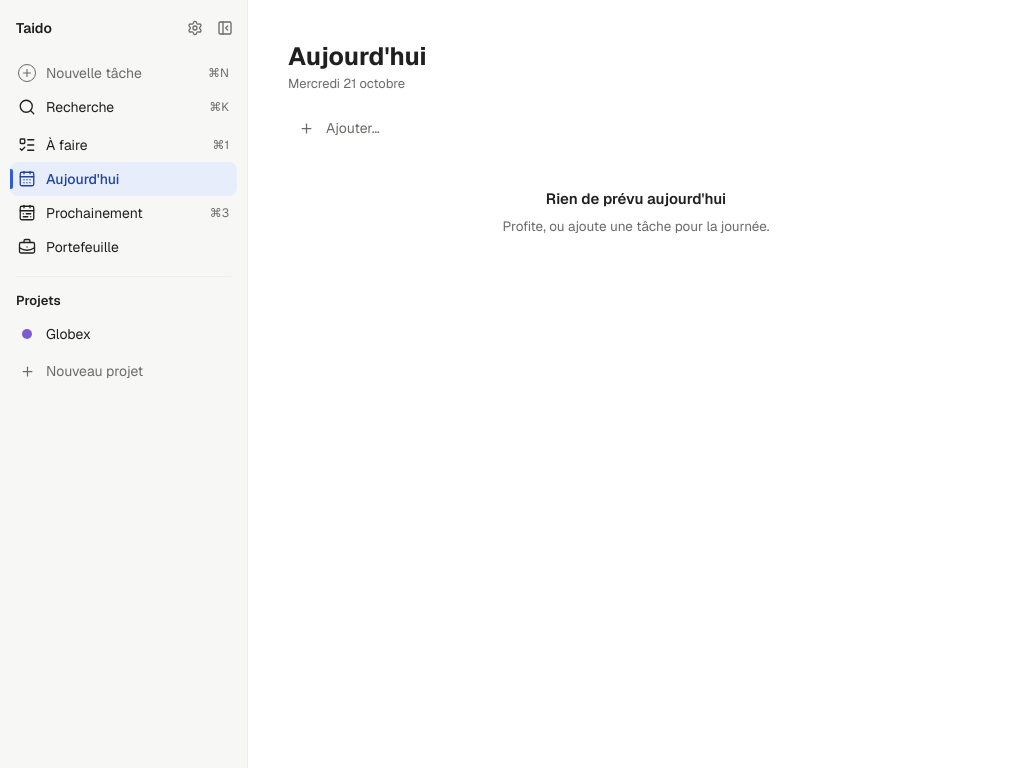
Test: Sidebar projects › creates a project in place with Enter, opens it and asks for the add-task focus
Click the button "Nouveau projet". click: (124, 371)
box: x1=10 y1=355 x2=237 y2=387
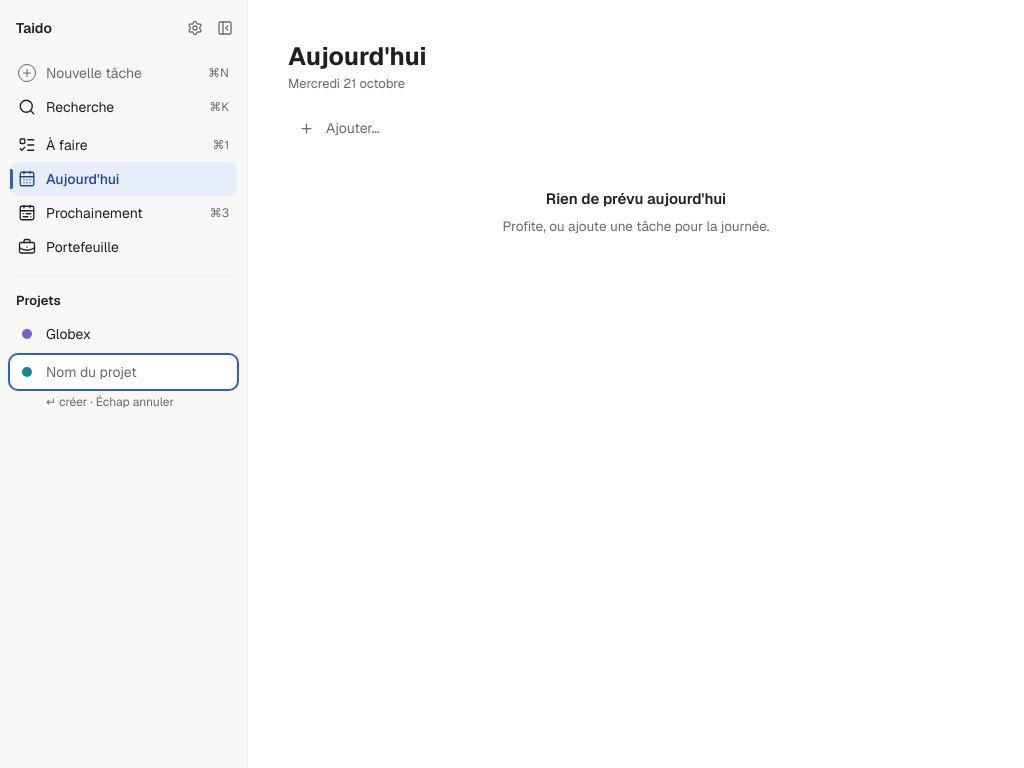
Result: the text "↵ créer · Échap annuler" is shown at x1=46 y1=394 x2=174 y2=410
Type "  Client Dupont " into the field with placeholder "Nom du projet". click: (138, 372)
box: x1=46 y1=355 x2=229 y2=389
Then press Enter
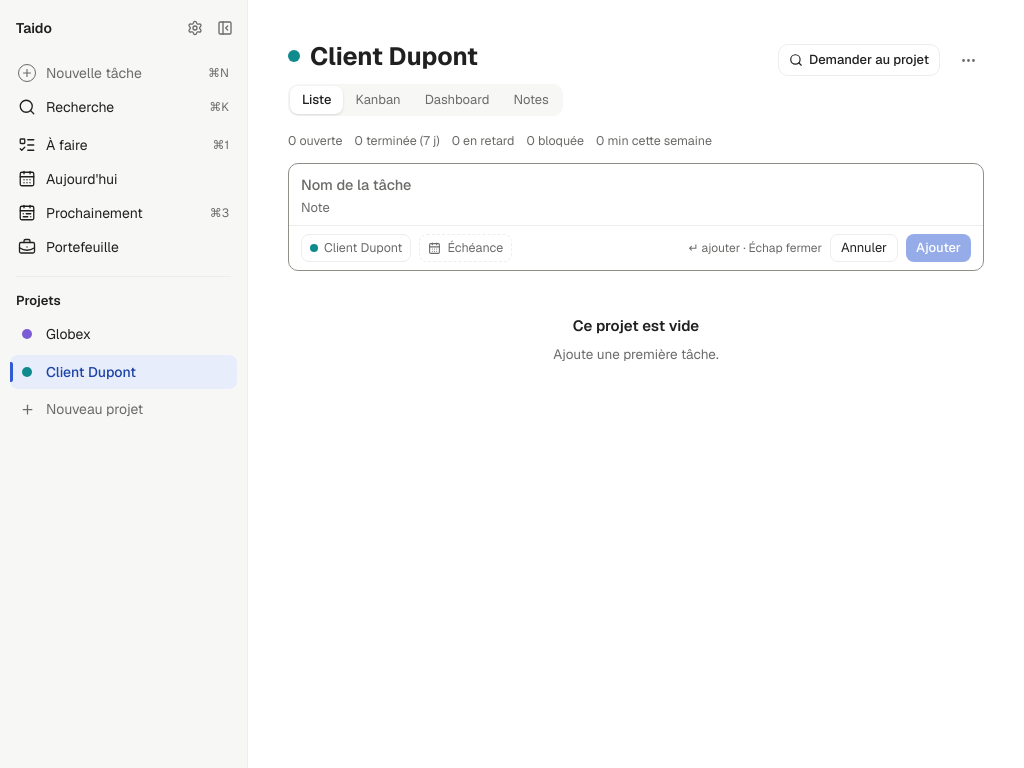
Result: the heading "Client Dupont" is shown at x1=288 y1=40 x2=478 y2=72
